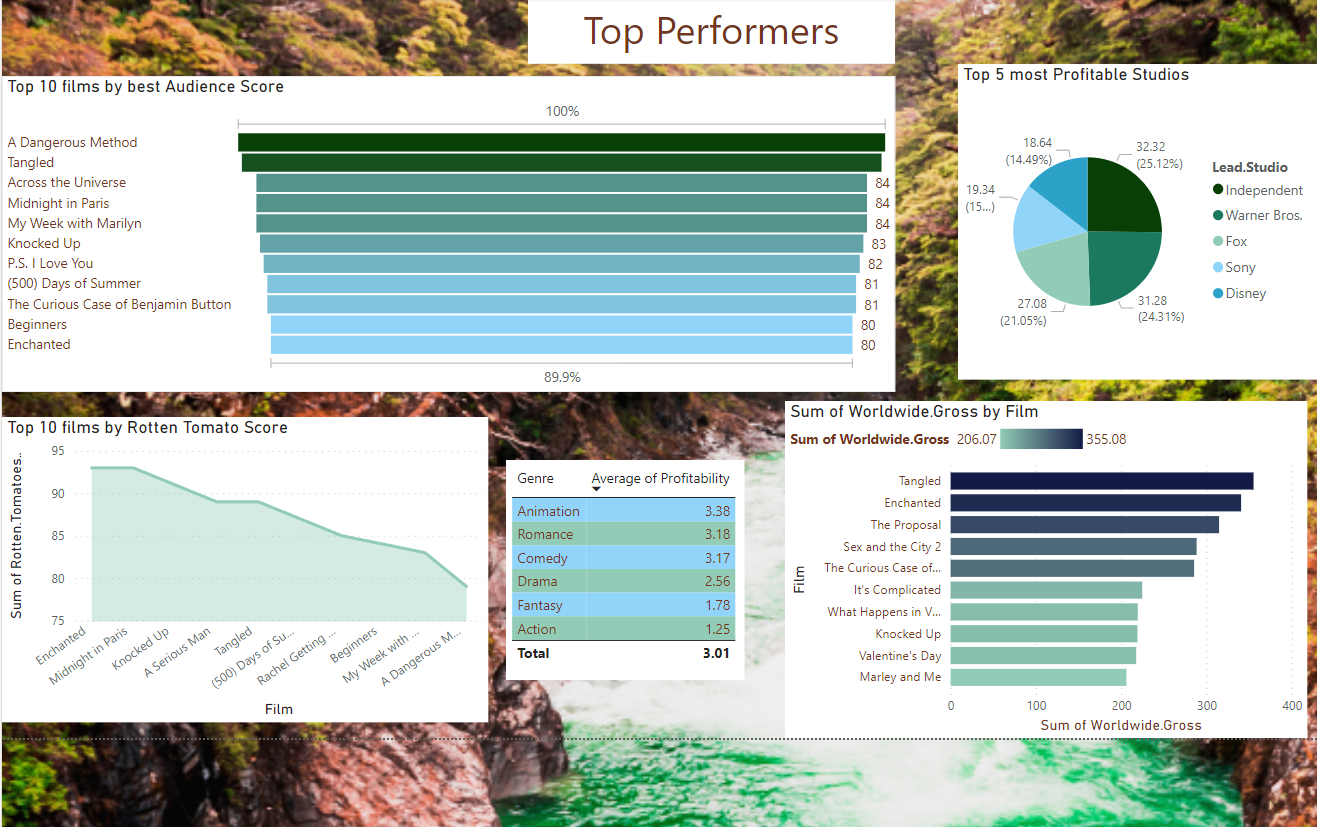

Layout of this report page (visuals, bound fields, positions):
{"tool":"powerbi","page":{"name":"Top Performers","canvas":[1280,720],"ordinal":1},"visuals":[{"type":"textbox","box":[511.6,0,357,64.2],"z":0},{"type":"funnel","title":"Top 10 films by best Audience Score","fields":{"Category":["clean_df (1).Film"],"Y":["clean_df (1).Audience..score.."]},"box":[0,75.9,868.6,307.4],"z":1000},{"type":"pieChart","title":"Top 5 most Profitable Studios","fields":{"Category":["clean_df (1).Lead.Studio"],"Y":["clean_df (1).Profitability"]},"box":[929.8,64.2,350.2,307.4],"z":2000},{"type":"areaChart","title":"Top 10 films by Rotten Tomato Score","fields":{"Category":["clean_df (1).Film"],"Y":["clean_df (1).Rotten.Tomatoes.."]},"box":[0,407.5,472.7,296.7],"z":3000},{"type":"tableEx","fields":{"Values":["clean_df (1).Genre","clean_df (1).Profitability"]},"box":[490.2,449.4,232.5,214],"z":4000},{"type":"clusteredBarChart","fields":{"Category":["clean_df (1).Film"],"Y":["clean_df (1).Worldwide.Gross"]},"box":[761.6,392,507.7,327.8],"z":5000}]}

Visuals, with their boxes in screenshot pixels (x1, y1, x2, y2):
textbox: x1=529, y1=0, x2=892, y2=65
"Top 10 films by best Audience Score" funnel: x1=10, y1=77, x2=892, y2=389
"Top 5 most Profitable Studios" pieChart: x1=954, y1=65, x2=1309, y2=377
"Top 10 films by Rotten Tomato Score" areaChart: x1=10, y1=413, x2=490, y2=715
tableEx - clean_df (1).Genre x clean_df (1).Profitability: x1=508, y1=456, x2=744, y2=673
clusteredBarChart - clean_df (1).Film x clean_df (1).Worldwide.Gross: x1=783, y1=398, x2=1298, y2=730
